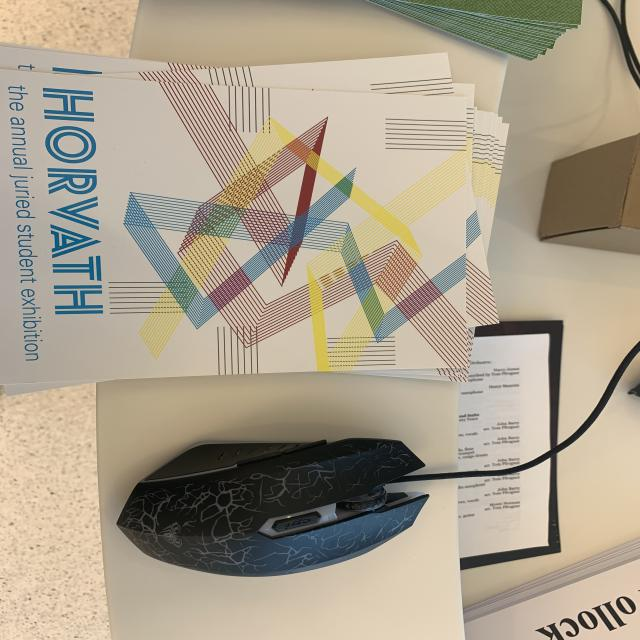Mouse: (105, 427, 437, 577)
